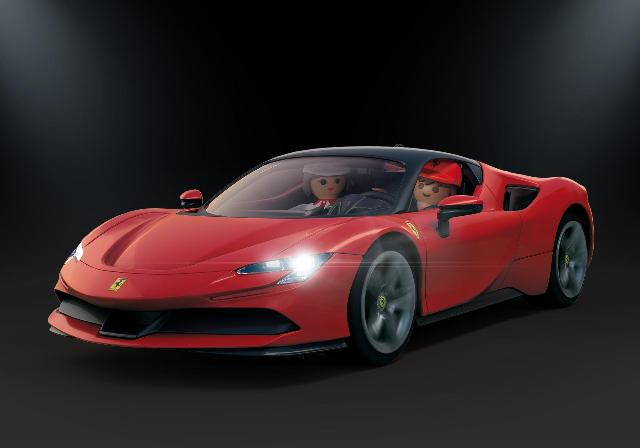ferrari: (47, 146, 596, 362)
